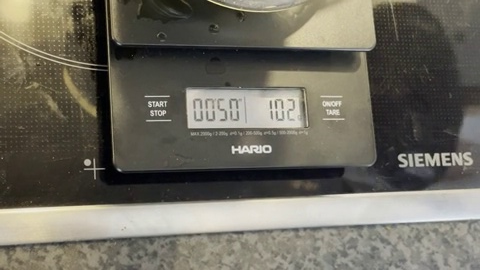display: (187, 87, 306, 128)
